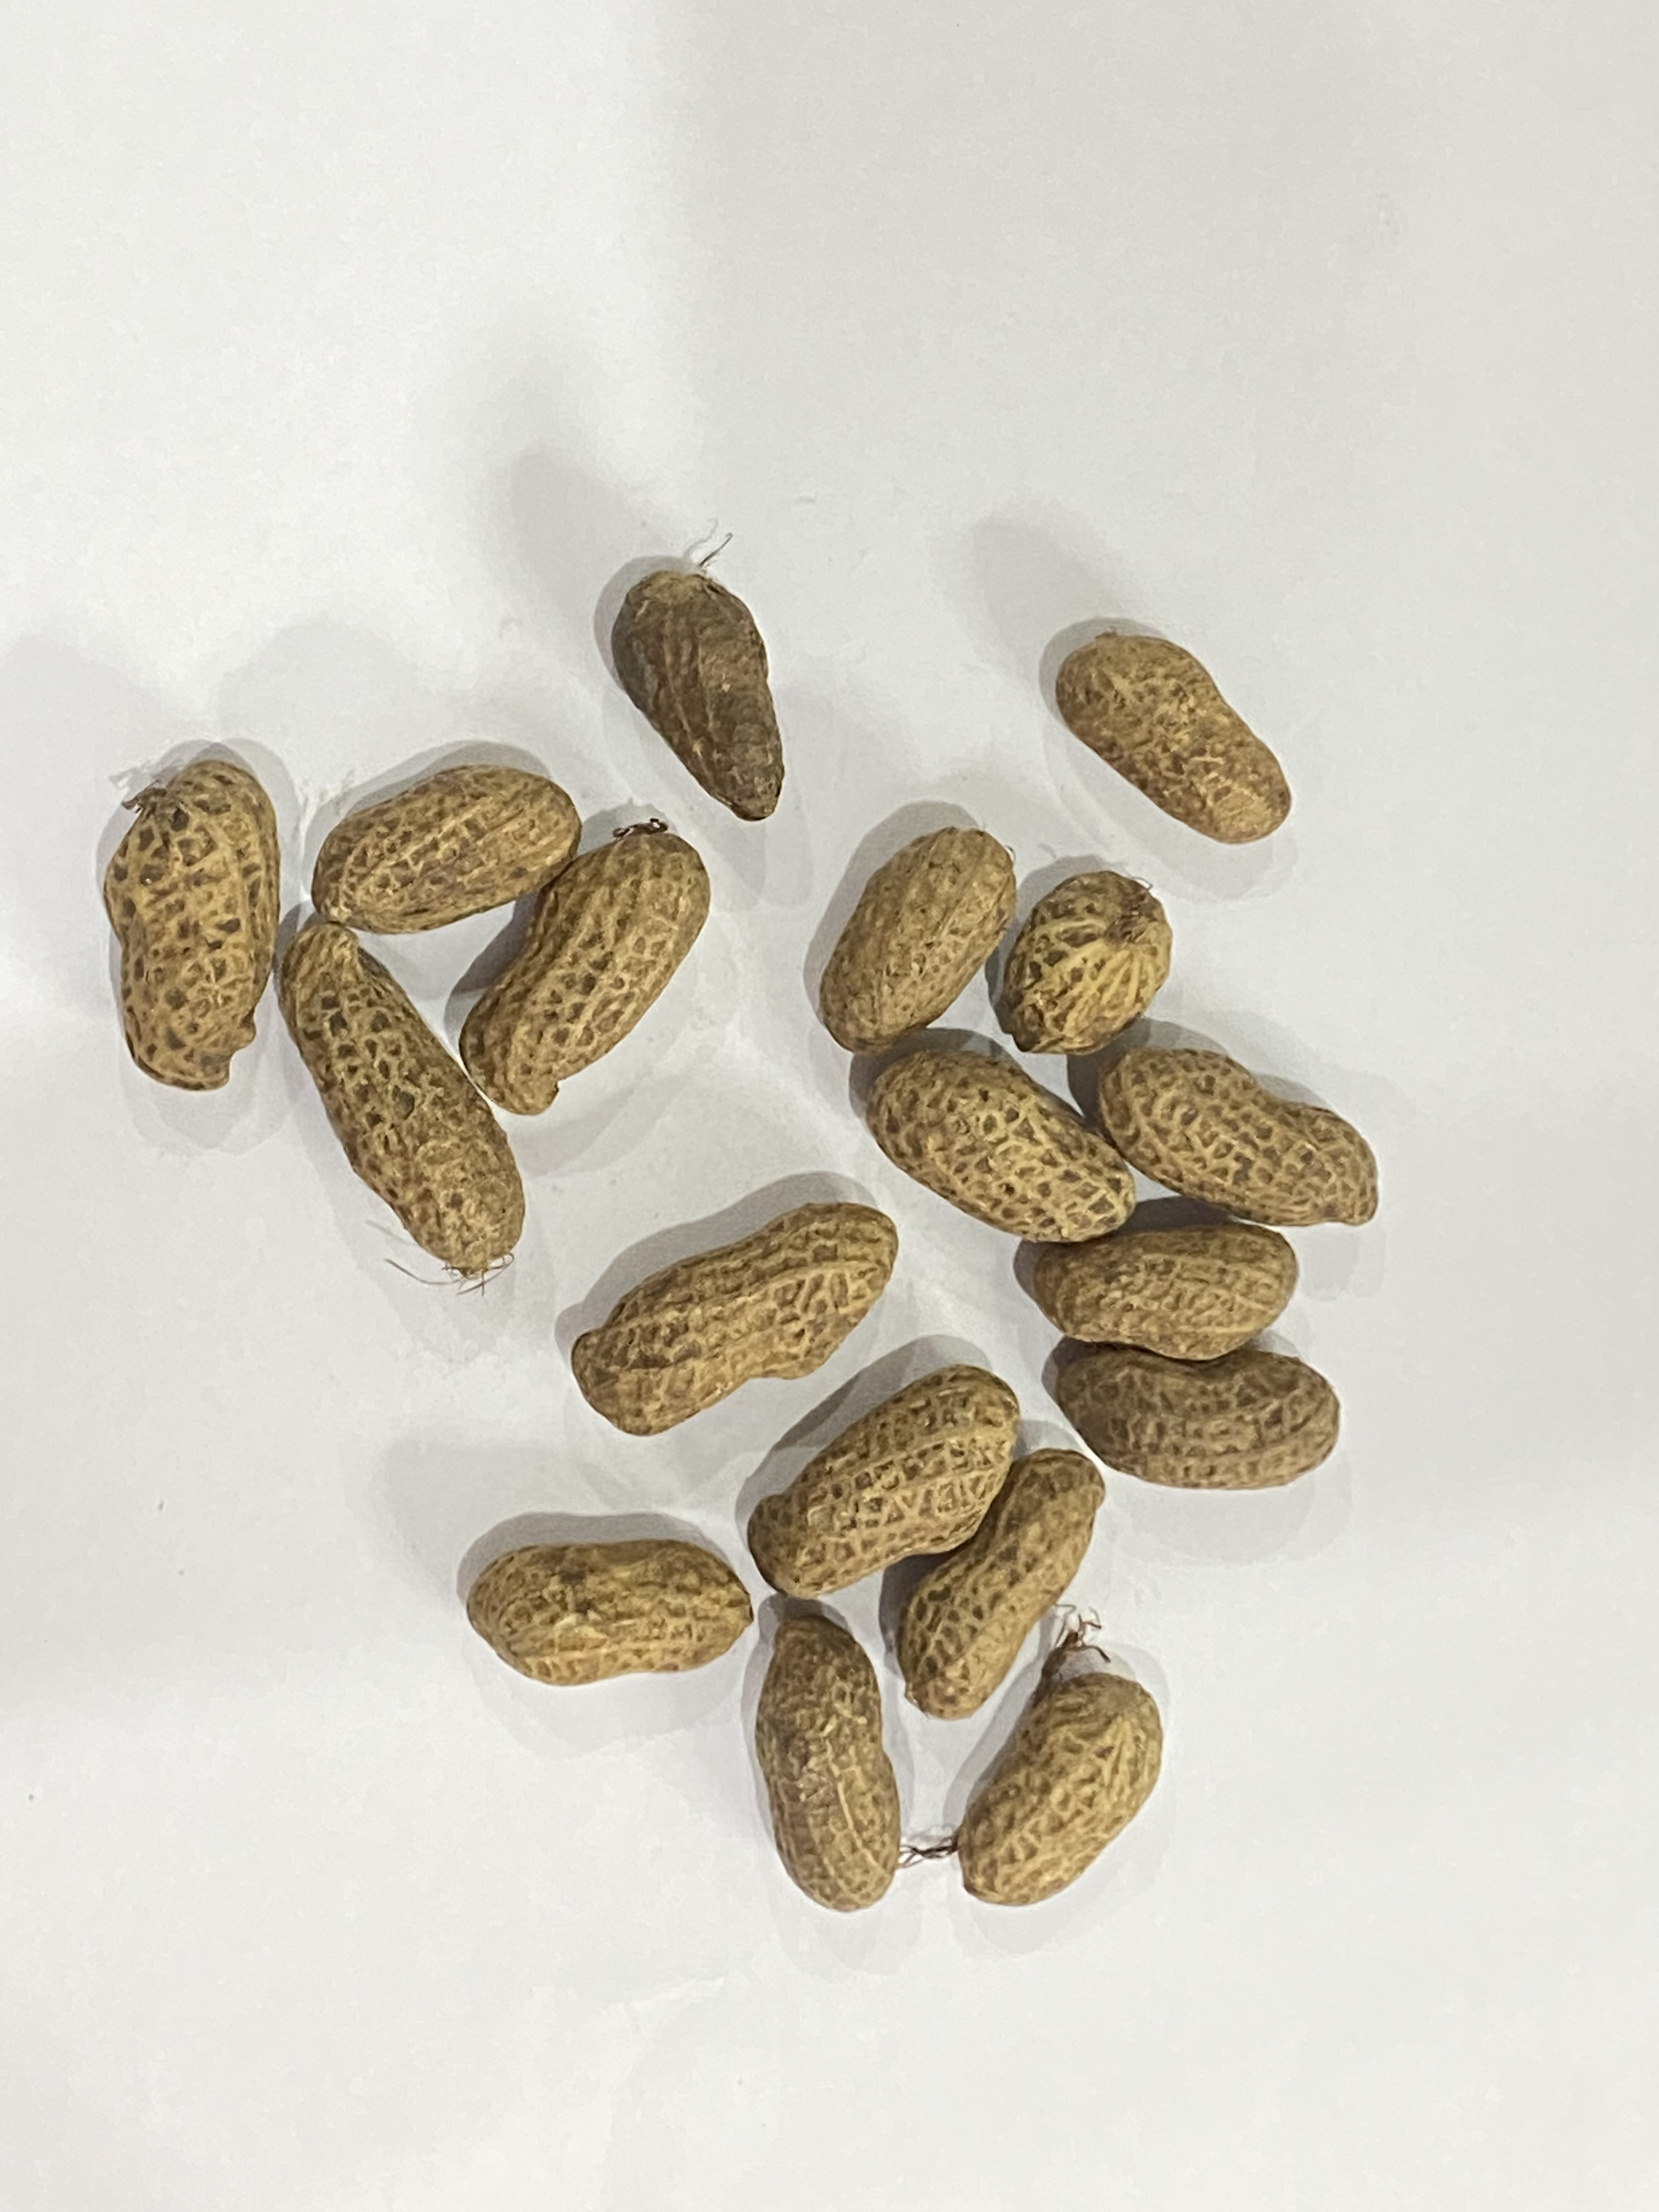kacang1: (606, 563, 805, 822)
kacang2: (570, 1202, 913, 1442), (943, 1679, 1152, 1970), (1061, 624, 1290, 841), (457, 1541, 755, 1689)
